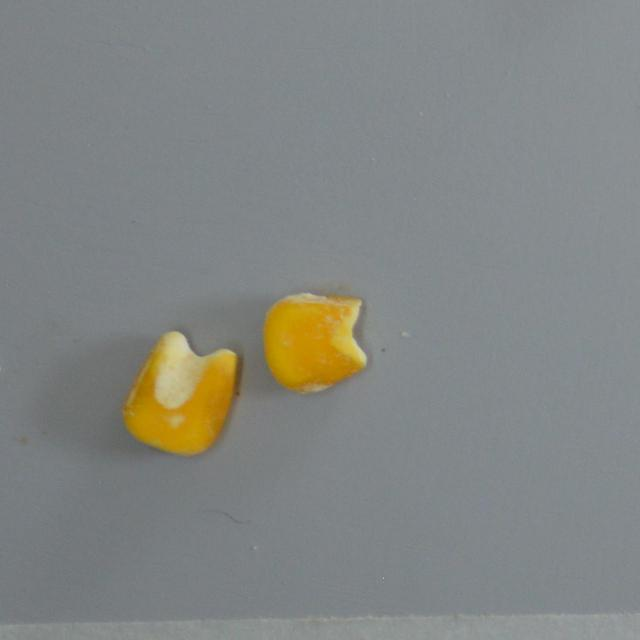pelicula: (120, 330, 237, 456), (262, 293, 368, 395)
